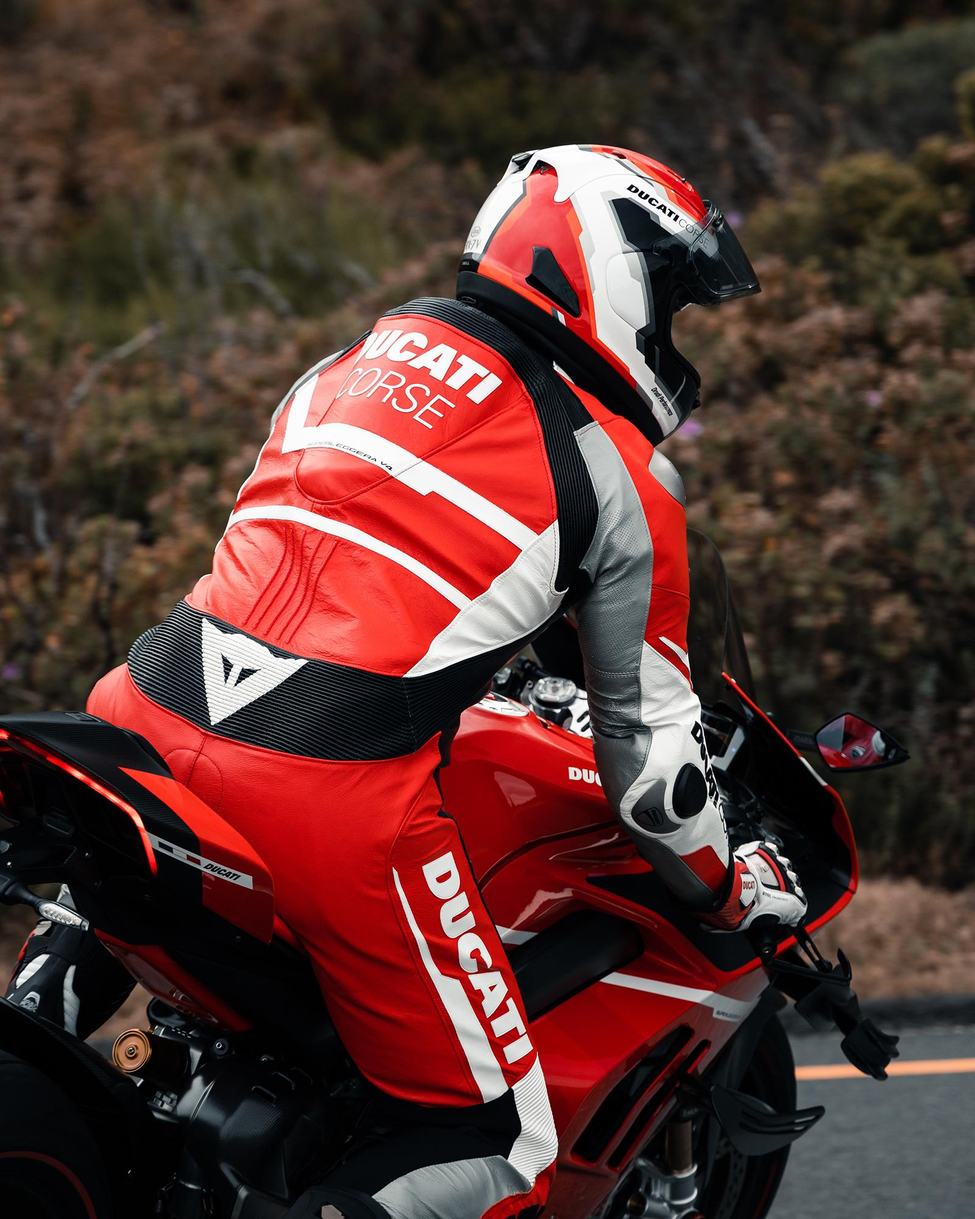helmet: (453, 142, 764, 458)
